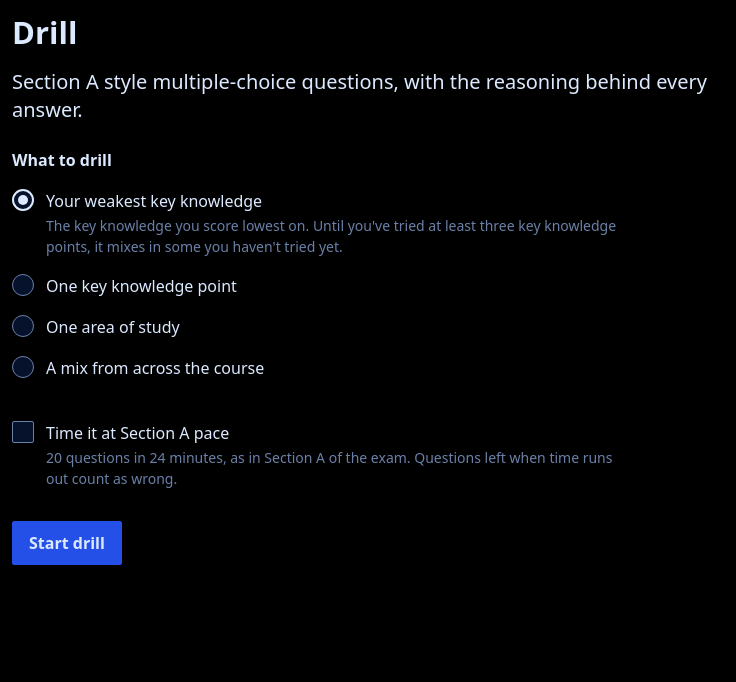
Test: Drill › starts a round from the setup form
This screenshot has width=736, height=682.
Expected: the heading "Drill" is shown, [12,11,77,53]
Click the radio button labelled "One key knowledge point" at (23, 285), box [12,274,34,296]
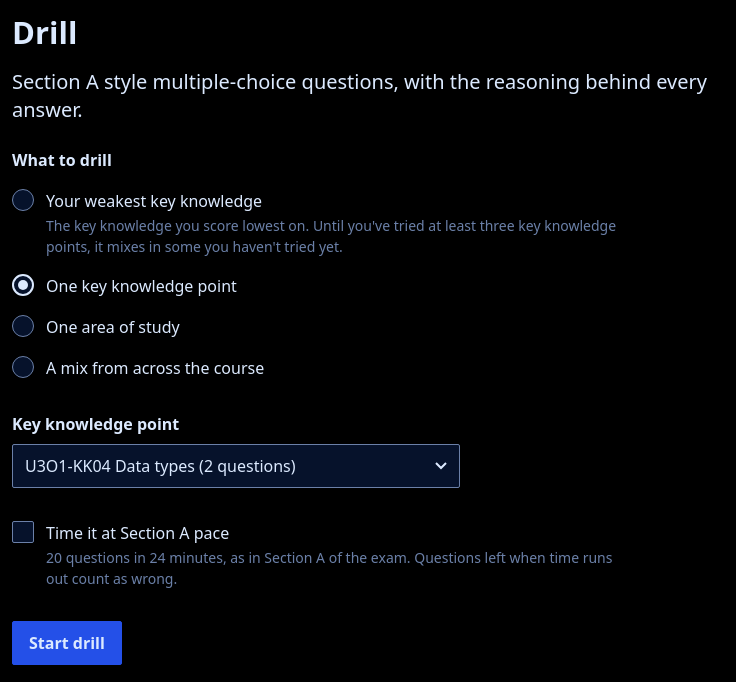
Expected: the dropdown labelled "Key knowledge point" shows "U3O1-KK04 Data types (2 questions)", [12,444,460,488]
Click the button "Start drill" at (67, 643), box [12,621,122,665]
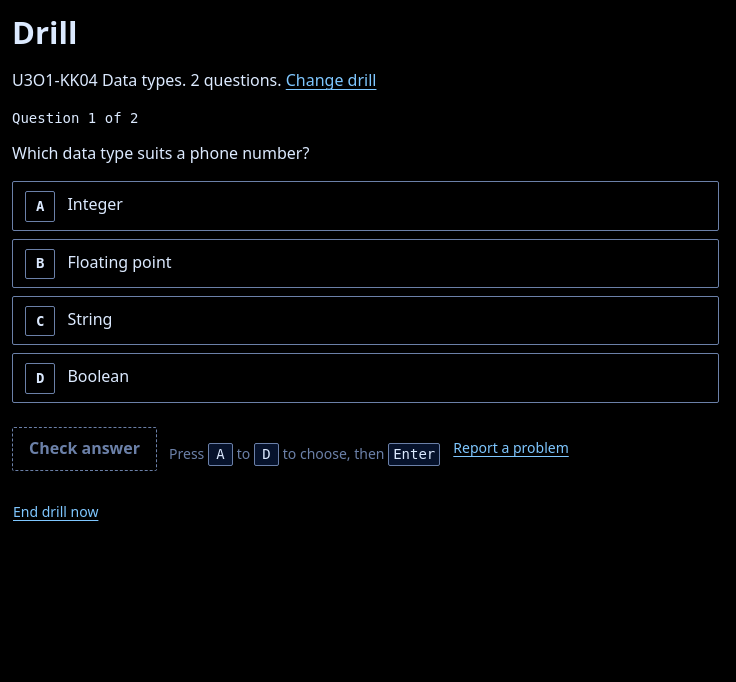
Expected: the text "Question 1 of 2" is shown, [12,110,138,126]
